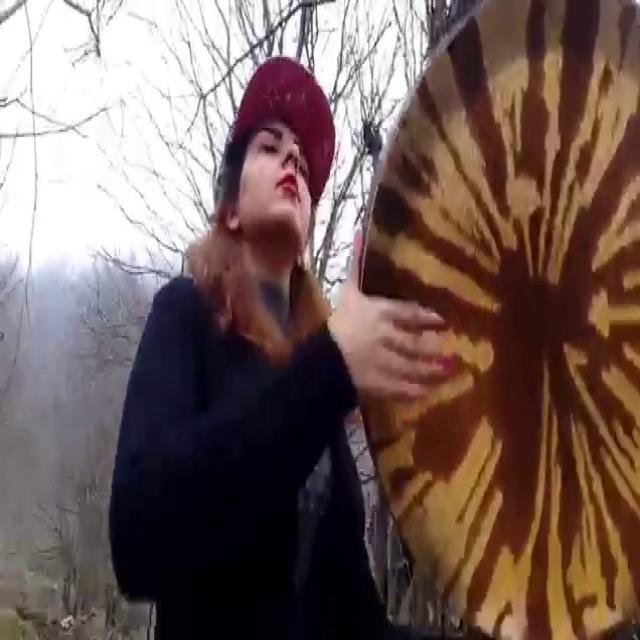Daf: (357, 3, 639, 640)
